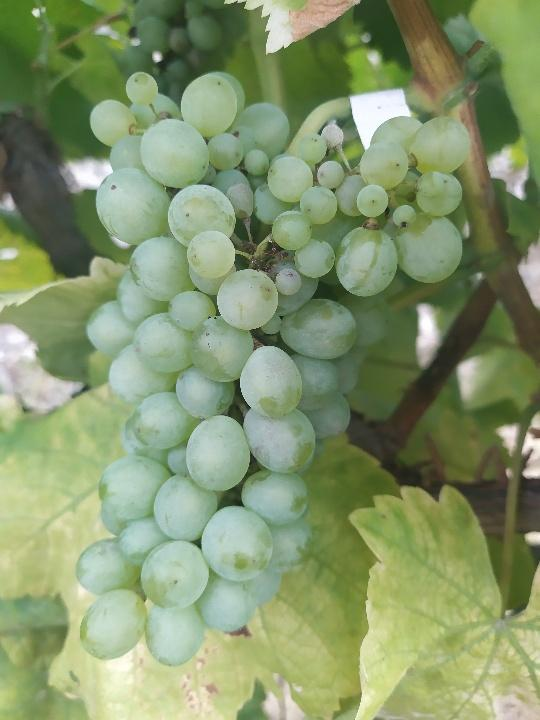grape: (72, 67, 474, 671)
